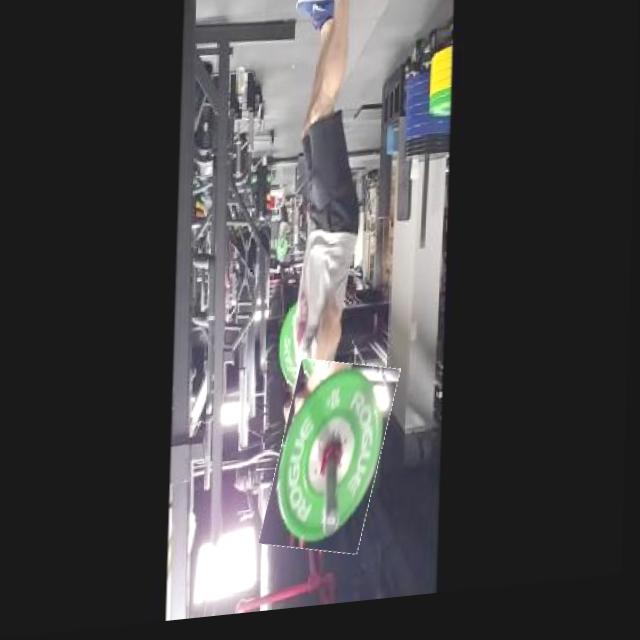barbell: (272, 364, 396, 567)
